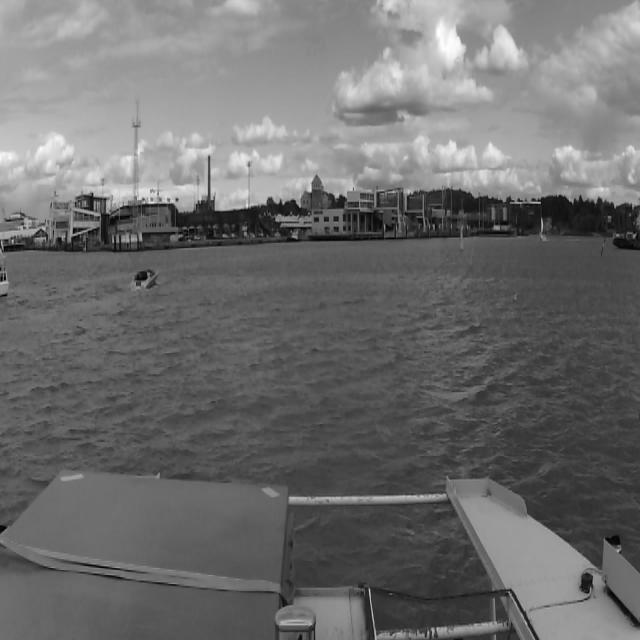buoy: (469, 235, 477, 268), (599, 237, 607, 259), (458, 224, 464, 252)
ship: (130, 262, 160, 294), (539, 212, 549, 244)
